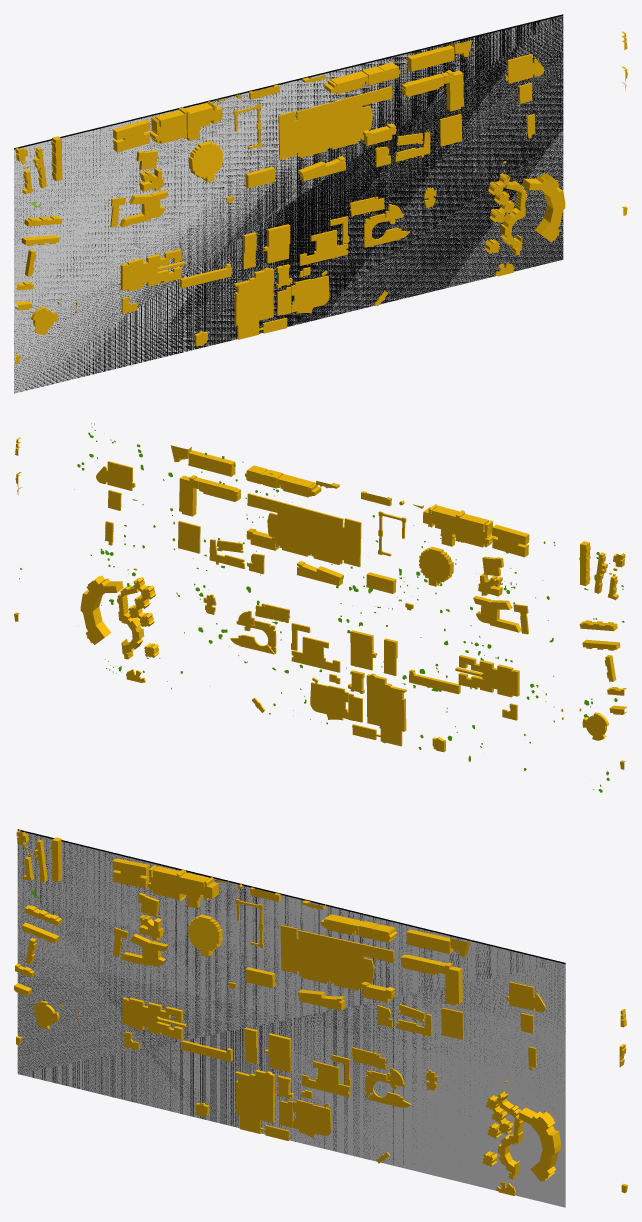
File: existing_trees_02.glb
The picture shows the model from 3 angles, top to bottom: view 1: azimuth 30°, elevation 25°; view 2: azimuth 150°, elevation 25°; view 3: azimuth 330°, elevation 25°; orthographic projection.
Parts seen in each view (by area): view 1: base, Layer 04, existing_building - Copy; view 2: existing_building - Copy, treesurface; view 3: base, existing_building - Copy, Layer 04.
Part boxes in pixels (left/top/right/bottom): base: left=14, top=16, right=563, bottom=393; Layer 04: left=14, top=14, right=563, bottom=393; existing_building - Copy: left=14, top=31, right=627, bottom=363; existing_building - Copy: left=14, top=437, right=627, bottom=769; treesurface: left=19, top=423, right=624, bottom=792; base: left=17, top=831, right=565, bottom=1207; existing_building - Copy: left=14, top=830, right=627, bottom=1195; Layer 04: left=17, top=829, right=565, bottom=1166.
Bounding box in the file's own units: 1104 × 431 × 20.85.
